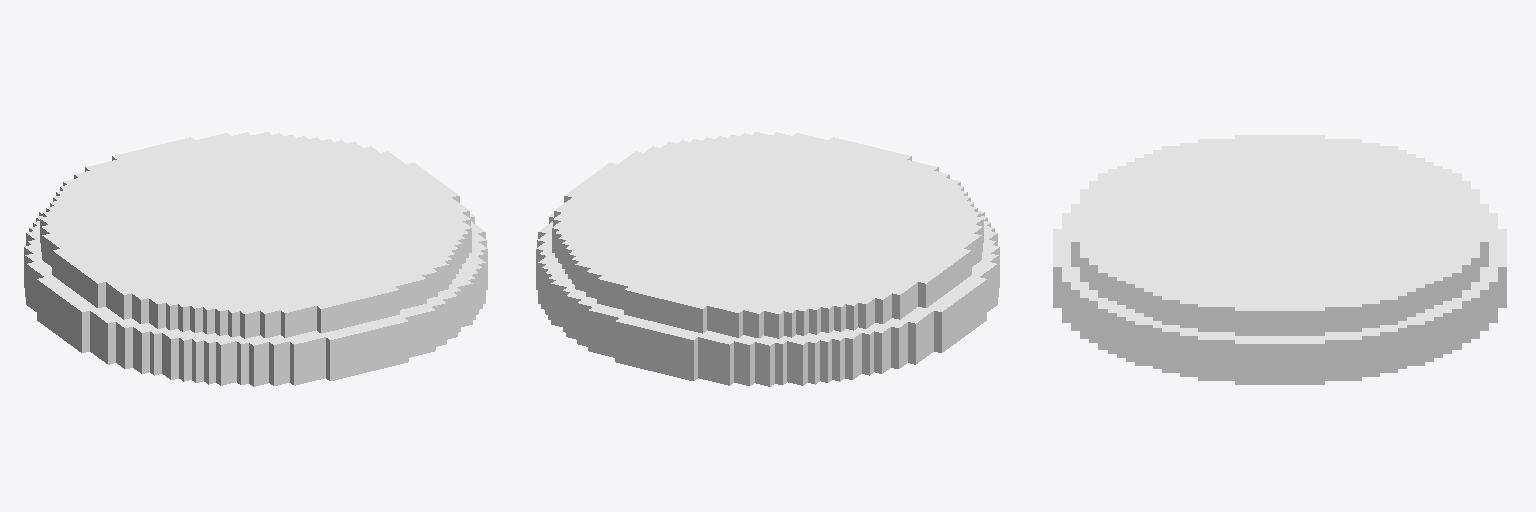
Rendered from Crane-2.obj.
3 renders of one model, left to right at view 1: azimuth 30°, elevation 25°; view 2: azimuth 150°, elevation 25°; view 3: azimuth 270°, elevation 25°, orthographic.
Visible parts, largest first — view 1: object 1; view 2: object 1; view 3: object 1.
Boxes of the visible parts, x1=… form: object 1: x1=24, y1=132, x2=487, y2=386; object 1: x1=536, y1=132, x2=999, y2=386; object 1: x1=1053, y1=135, x2=1506, y2=384.
Bounding box in the file's own units: 5 × 0.8 × 5.